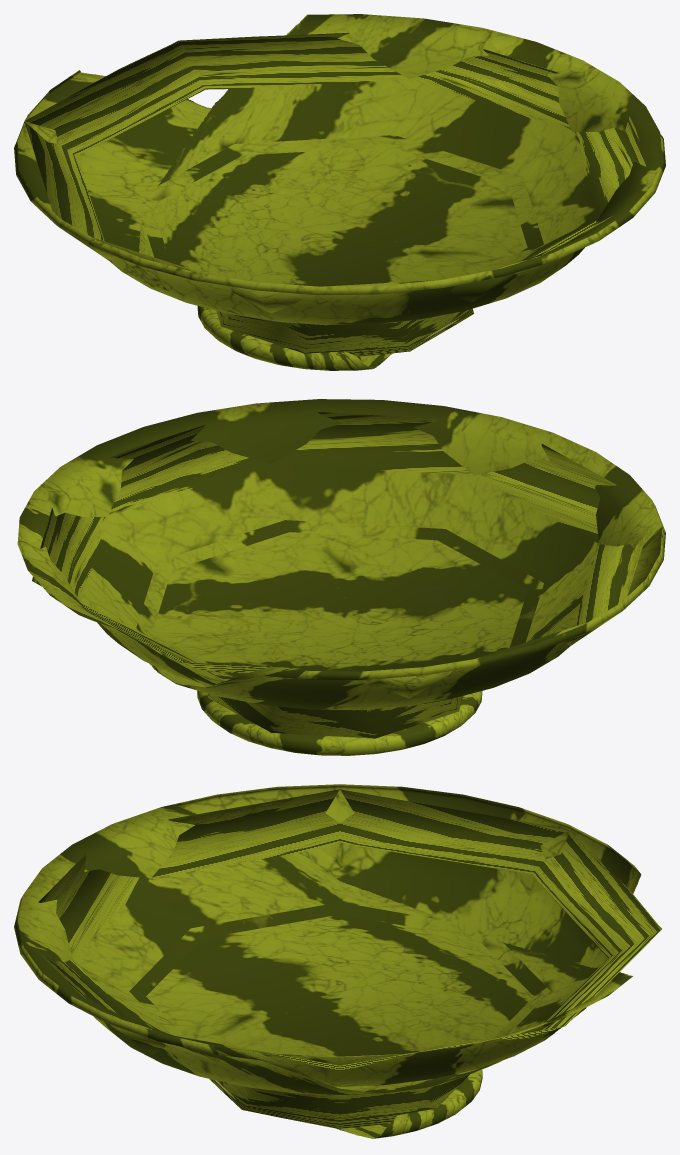
File: Bowl.fbx
The picture shows the model from 3 angles, top to bottom: view 1: azimuth 30°, elevation 25°; view 2: azimuth 150°, elevation 25°; view 3: azimuth 270°, elevation 25°; orthographic projection.
Visible parts, largest first — view 1: Bowl.001, Bowl; view 2: Bowl.001, Bowl; view 3: Bowl.001, Bowl.
Part boxes in pixels (left/top/right/bottom): Bowl.001: left=25, top=33, right=646, bottom=356; Bowl: left=14, top=14, right=665, bottom=370; Bowl.001: left=32, top=412, right=646, bottom=738; Bowl: left=17, top=399, right=665, bottom=755; Bowl.001: left=38, top=789, right=661, bottom=1128; Bowl: left=14, top=784, right=641, bottom=1138.
Size of the model in its own units: 80 by 21.9 by 80.
